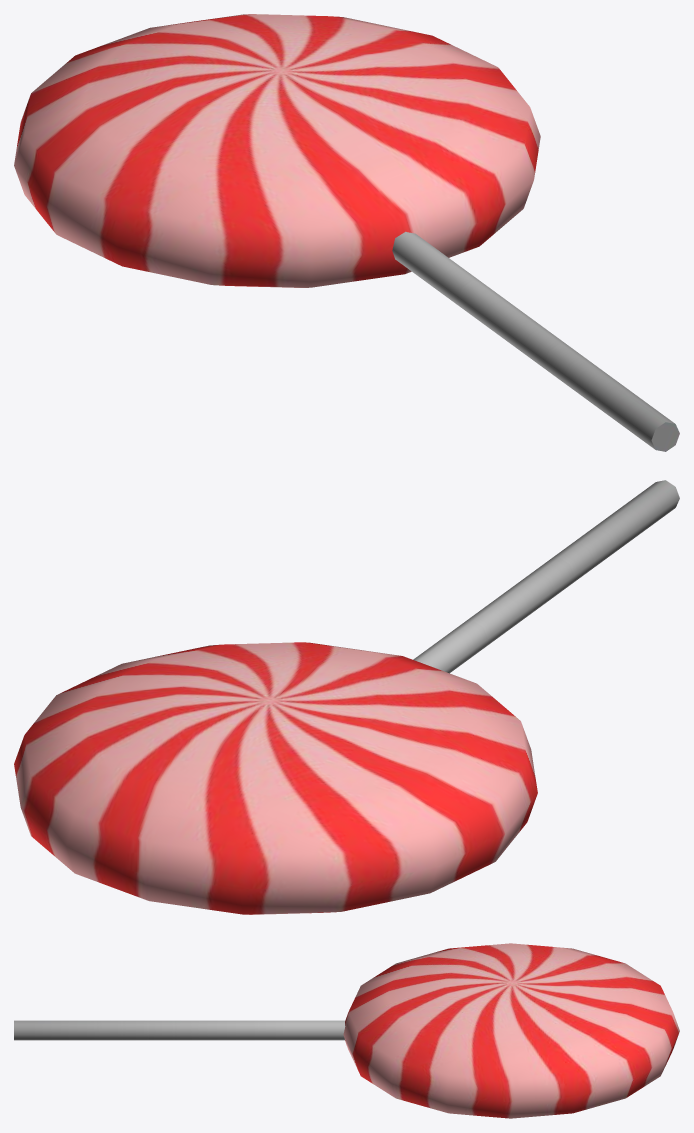
The model's file is swirl-lollipop.glb.
The picture shows the model from 3 angles, top to bottom: view 1: azimuth 30°, elevation 25°; view 2: azimuth 150°, elevation 25°; view 3: azimuth 270°, elevation 25°; orthographic projection. The views are drawn at different scales.
Bounding box in the file's own units: 0.508 × 0.1649 × 1.
1 material, 1 textured.
